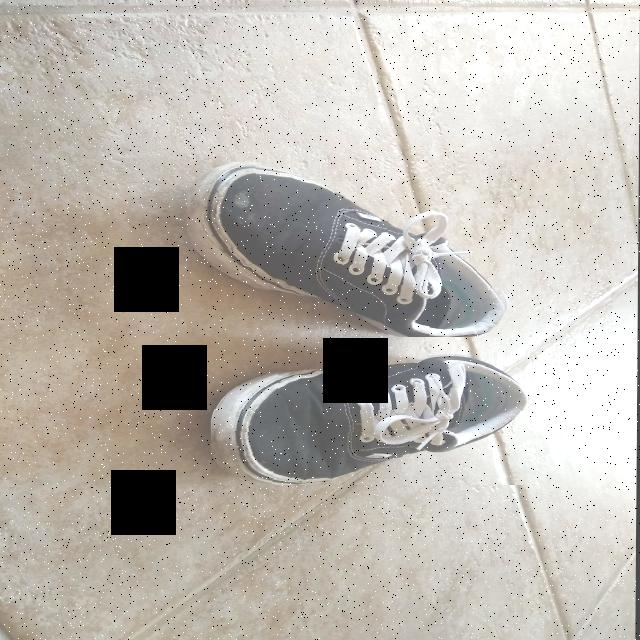shoe: (187, 162, 510, 337), (211, 352, 531, 485)
